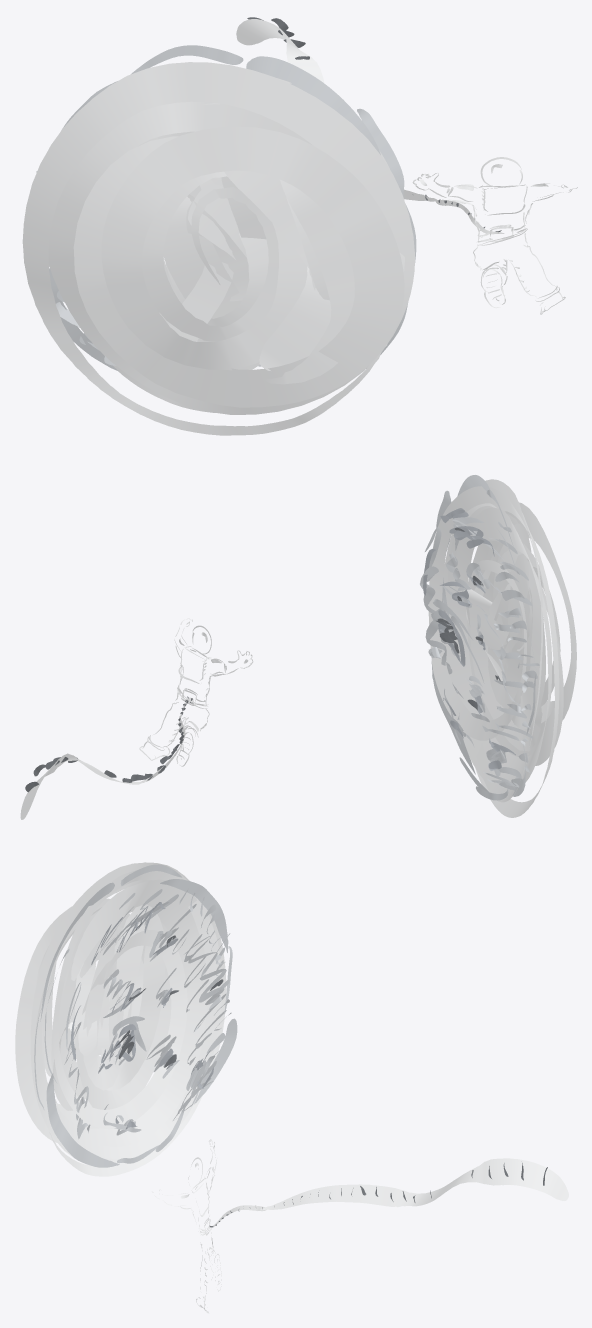
File: no18_astronaut_to_the_moon.glb
3 renders of one model, top to bottom at view 1: azimuth 30°, elevation 25°; view 2: azimuth 150°, elevation 25°; view 3: azimuth 270°, elevation 25°, orthographic. The views are drawn at different scales.
Parts seen in each view (by area): view 1: brush_TaperedMarker_g0_b0_0; view 2: brush_TaperedMarker_g0_b0_0; view 3: brush_TaperedMarker_g0_b0_0.
Boxes of the visible parts, bbox=[...] form: brush_TaperedMarker_g0_b0_0: bbox=[22, 17, 577, 435]; brush_TaperedMarker_g0_b0_0: bbox=[20, 475, 576, 819]; brush_TaperedMarker_g0_b0_0: bbox=[15, 862, 568, 1313].
Size of the model in its own units: 4.59 by 3.32 by 5.45.
1 material, 1 textured.
